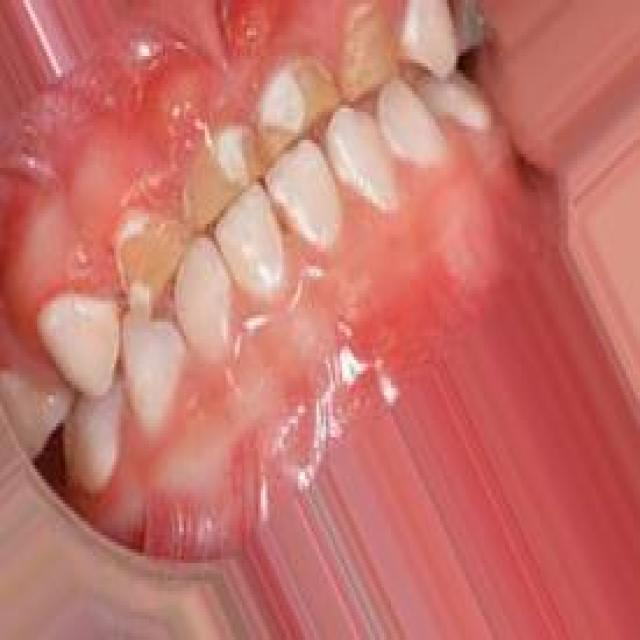caries: (250, 57, 345, 161), (108, 212, 192, 328), (186, 120, 264, 228), (333, 2, 408, 112)
